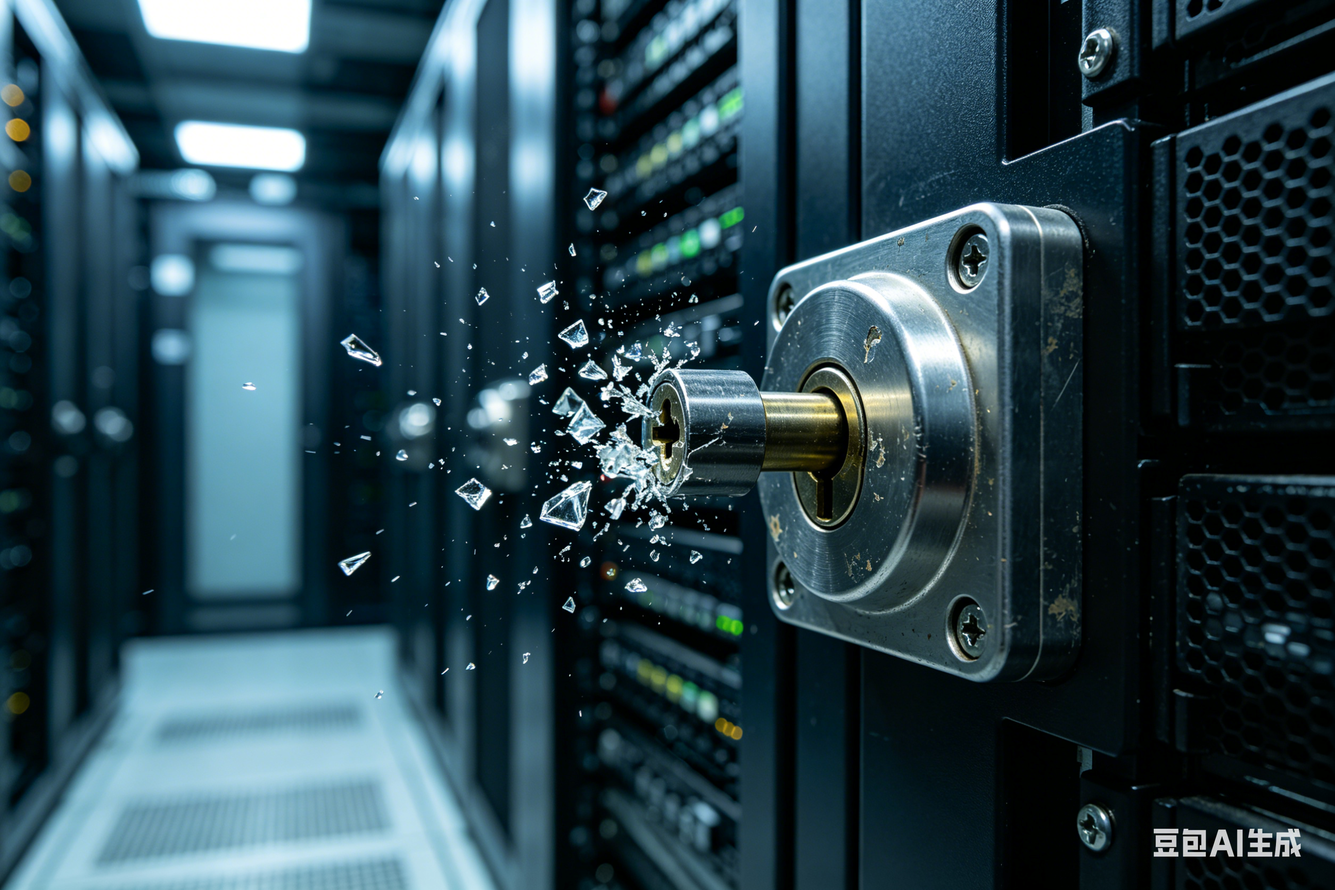BadLock: (596, 360, 757, 504)
